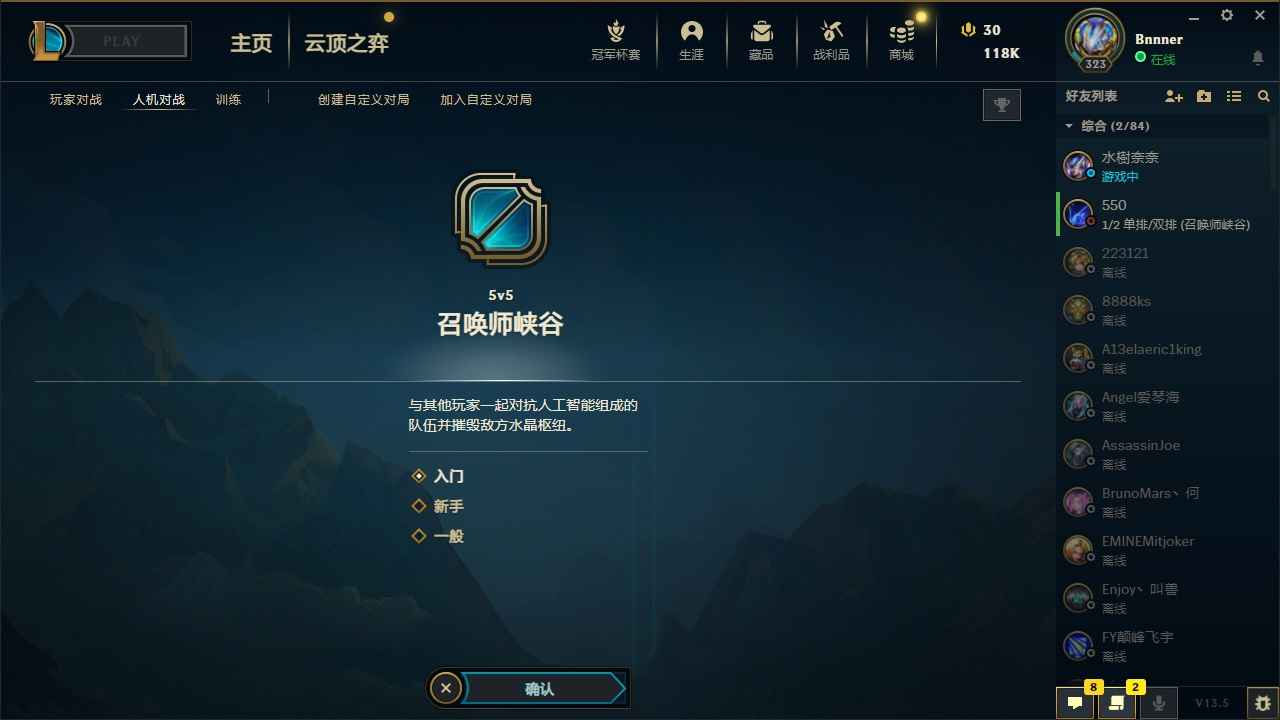HSPLAY: (64, 15, 208, 67)
QR: (465, 669, 608, 703)
RMRJ: (407, 462, 483, 487)
